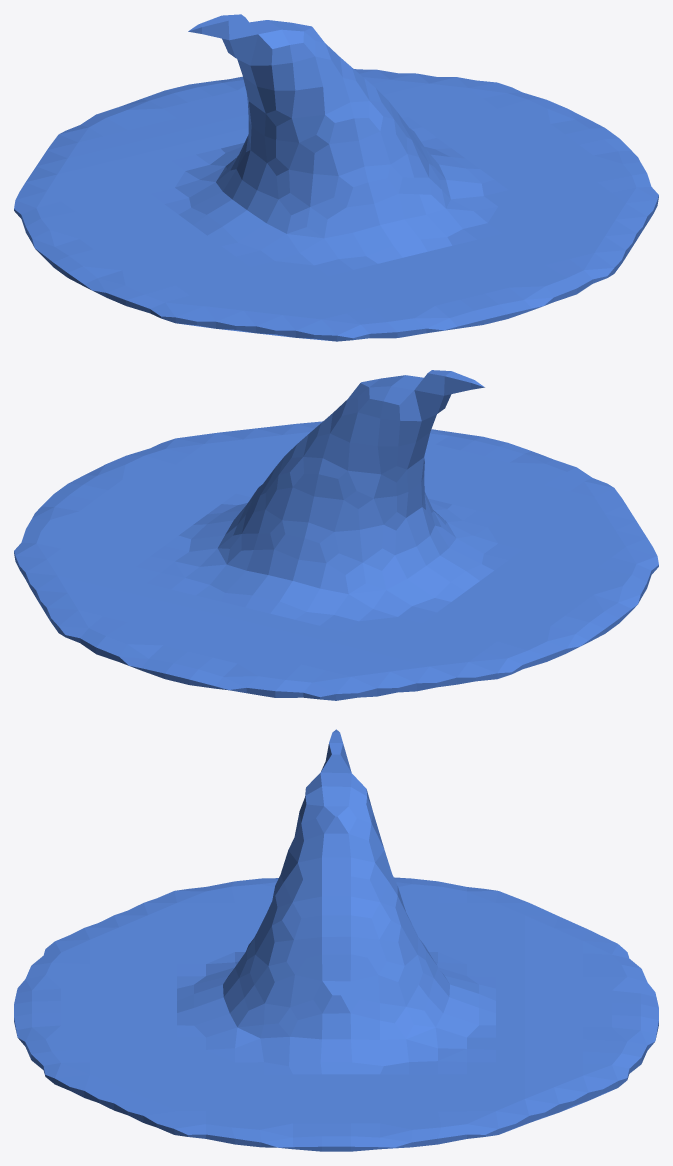
The model's file is Neznaika.fbx.
The picture shows the model from 3 angles, top to bottom: view 1: azimuth 30°, elevation 25°; view 2: azimuth 150°, elevation 25°; view 3: azimuth 270°, elevation 25°; orthographic projection.
Visible parts, largest first — view 1: Cone; view 2: Cone; view 3: Cone.
Part boxes in pixels (bbox=[...]): Cone: bbox=[14, 14, 658, 341]; Cone: bbox=[14, 370, 658, 700]; Cone: bbox=[14, 729, 658, 1151].
Bounding box in the file's own units: 378 × 145 × 378.
